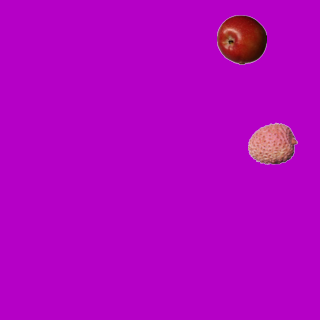Apple Braeburn: (216, 14, 266, 64)
Lychee: (247, 118, 297, 168)
